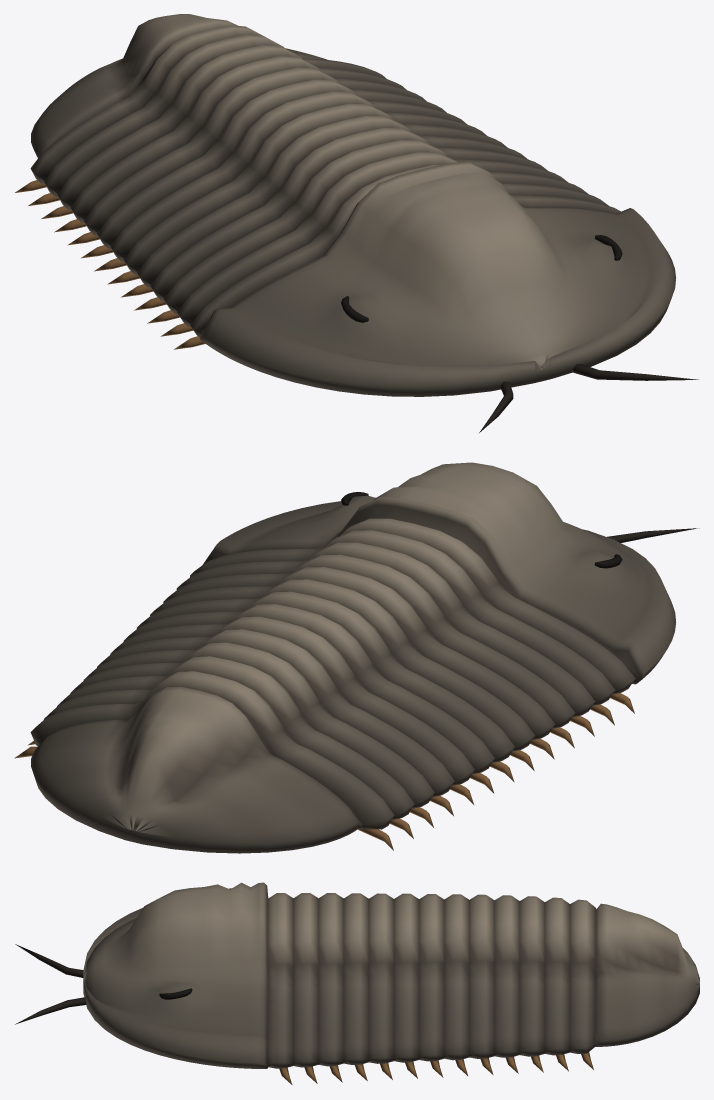
Rendered from FlexicalymeneMeeki.fbx.
The picture shows the model from 3 angles, top to bottom: view 1: azimuth 30°, elevation 25°; view 2: azimuth 150°, elevation 25°; view 3: azimuth 270°, elevation 25°; orthographic projection. The views are drawn at different scales.
Parts seen in each view (by area): view 1: FlexicalymeneMeeki; view 2: FlexicalymeneMeeki; view 3: FlexicalymeneMeeki.
Part boxes in pixels (x1,y1,x2,y2): FlexicalymeneMeeki: (15, 14, 698, 432); FlexicalymeneMeeki: (14, 462, 699, 853); FlexicalymeneMeeki: (15, 882, 699, 1084).
Size of the model in its own units: 1.04 by 0.3002 by 1.78.
